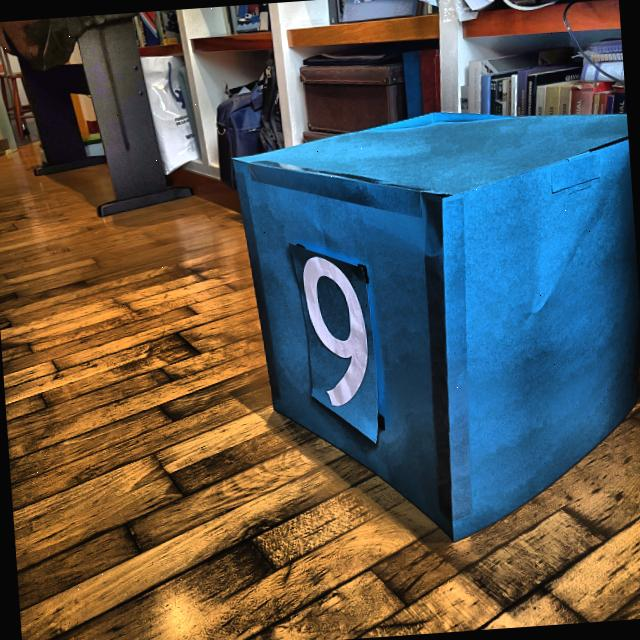blue box: (219, 93, 640, 557)
nine: (289, 238, 385, 417)
